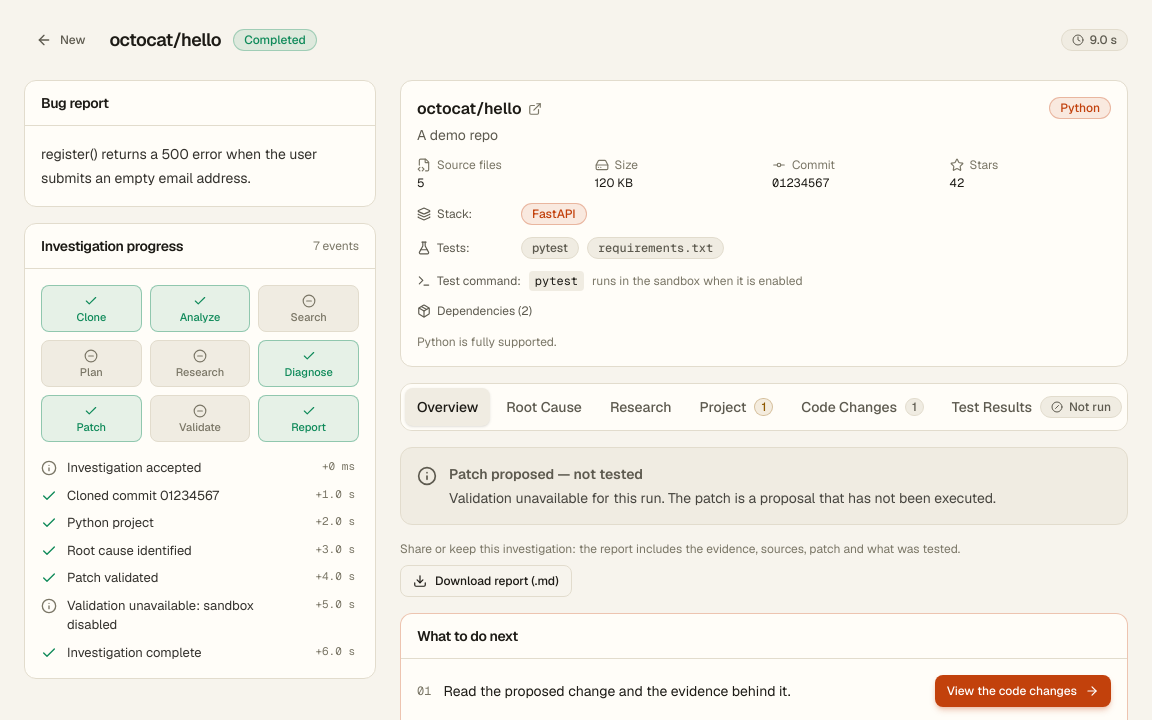
Test: Leaving individual parts of a file out of the patch › including the part again restores it, and leaving out every part disables the download
Click the tab "Code Changes 1": (863, 407) [789,388,936,426]
(page scrolled)
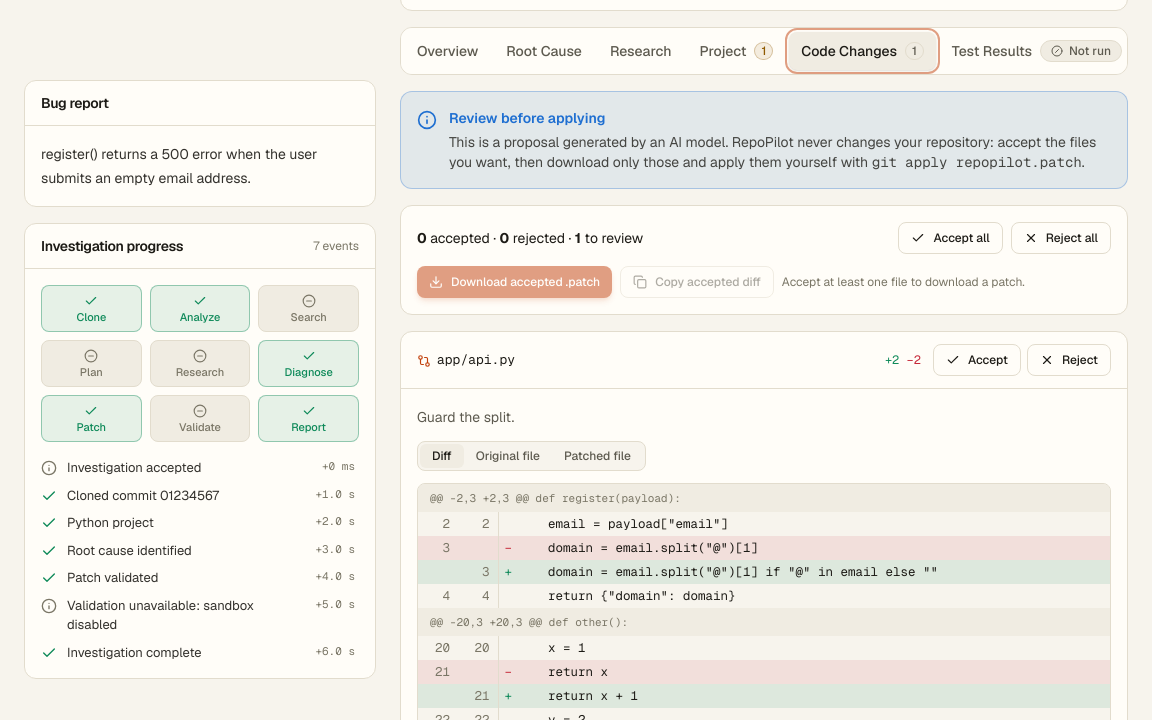
Click the button "Accept": (977, 360) [933,344,1021,376]
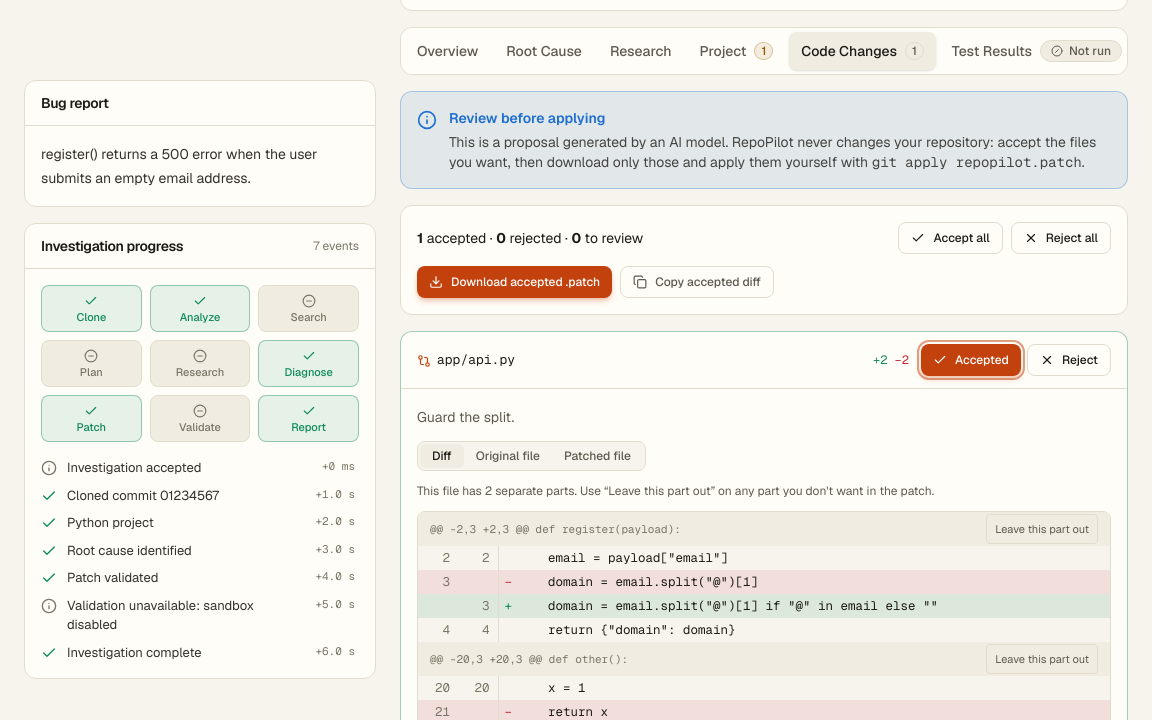
Click the button with aria-label "leave out part 1 of 2": (1042, 529) [986,514,1098,544]
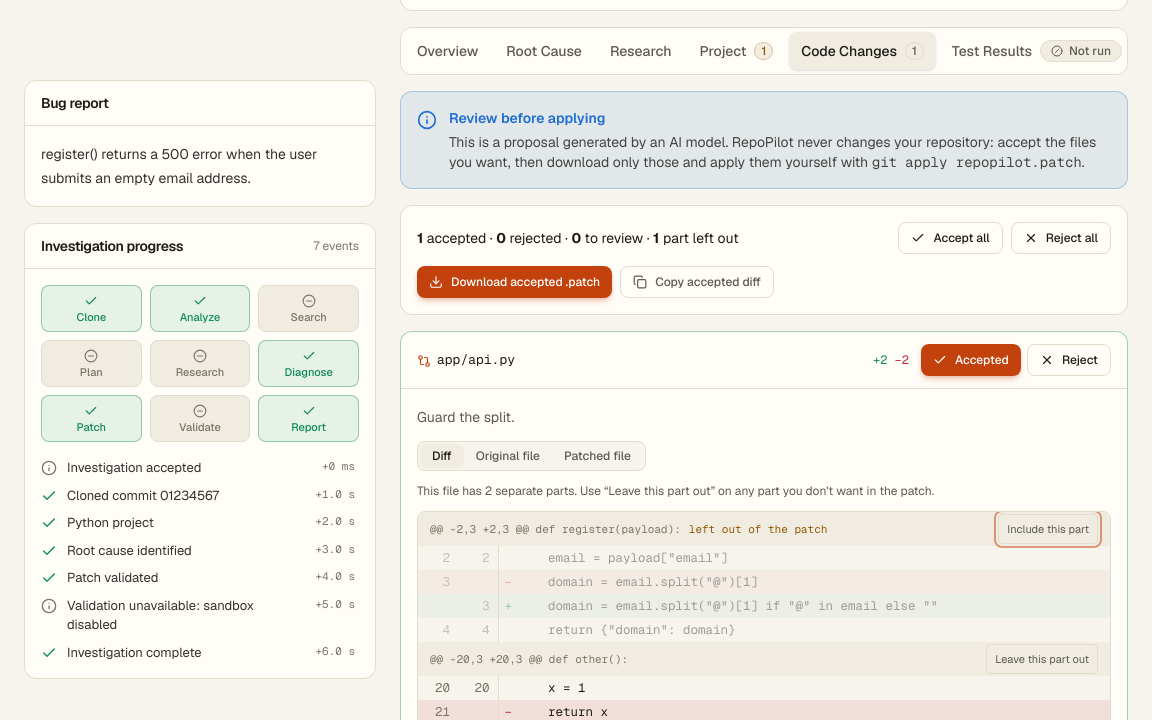
Click the button with aria-label "leave out part 2 of 2": (1042, 659) [986,644,1098,674]
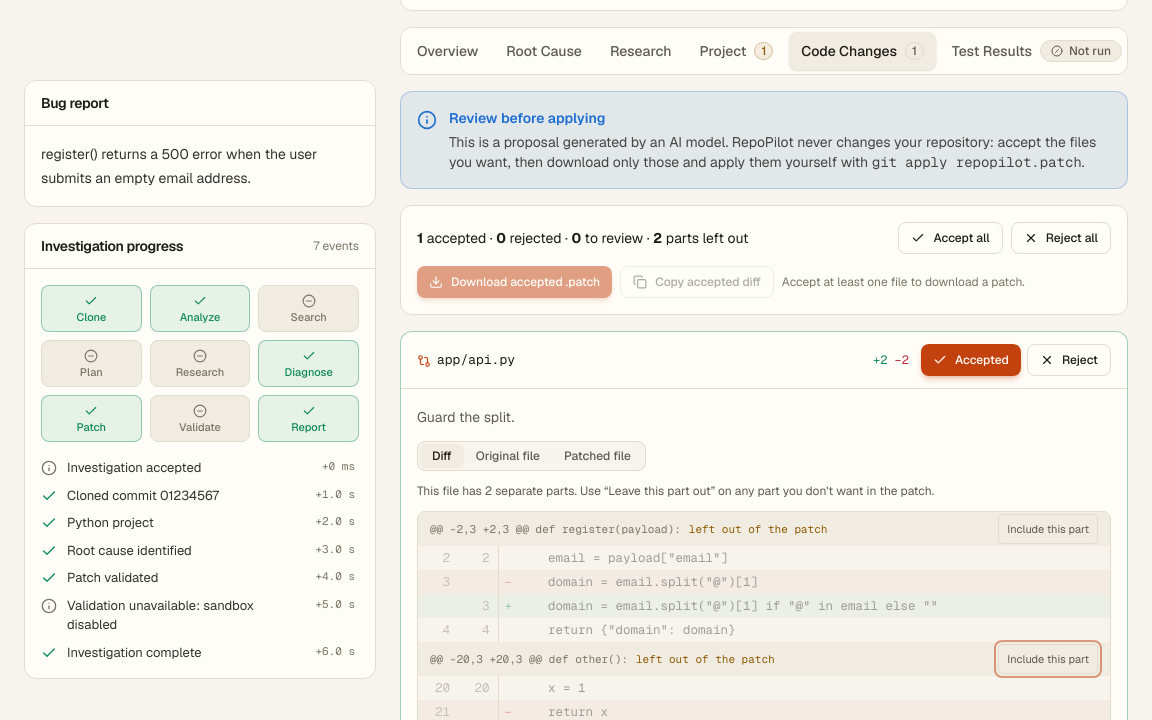
Result: the button "Download accepted .patch" is disabled at [417,266,612,298]
Click the button with aria-label "include part 1 of 2": (1048, 529) [998,514,1098,544]
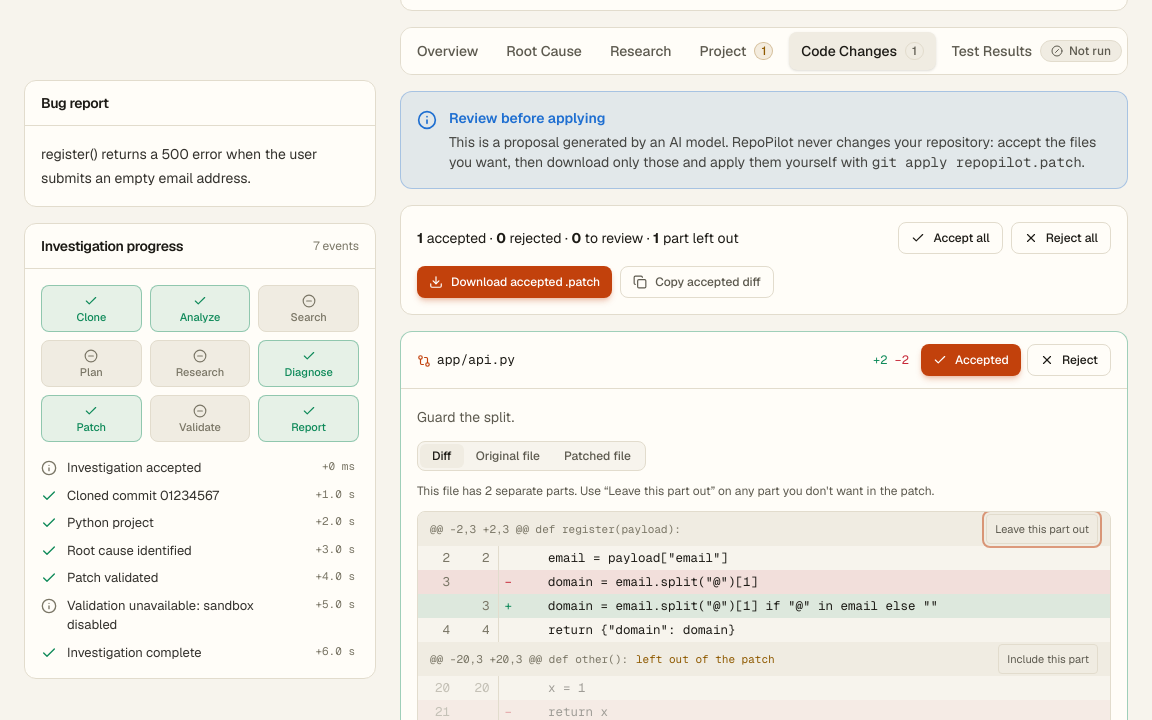
Result: the button "Download accepted .patch" is enabled at [417,266,612,298]
Result: the text "1 accepted · 0 rejected · 0 to review · 1 part left out" is shown at [417,228,739,248]
